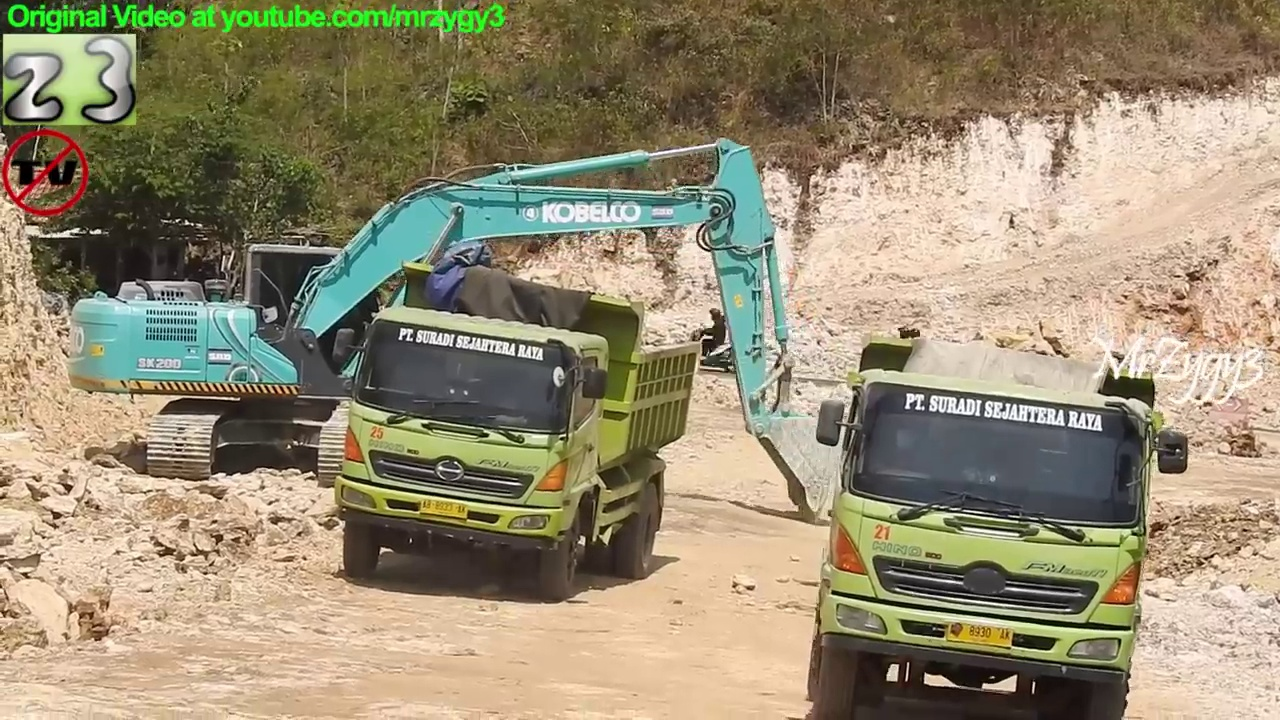excavator: (62, 131, 862, 533)
truck: (805, 331, 1194, 720), (327, 254, 706, 605)
